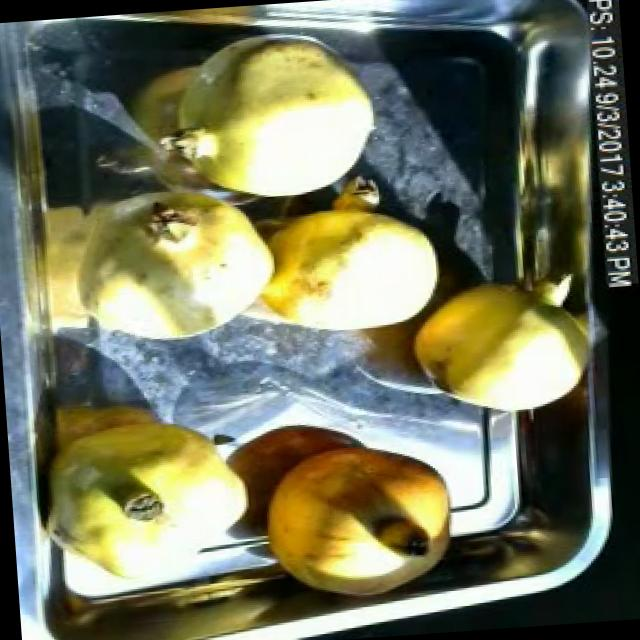fruit: (30, 399, 268, 596), (59, 182, 294, 358), (249, 429, 464, 607), (241, 175, 453, 349), (399, 267, 600, 424)
